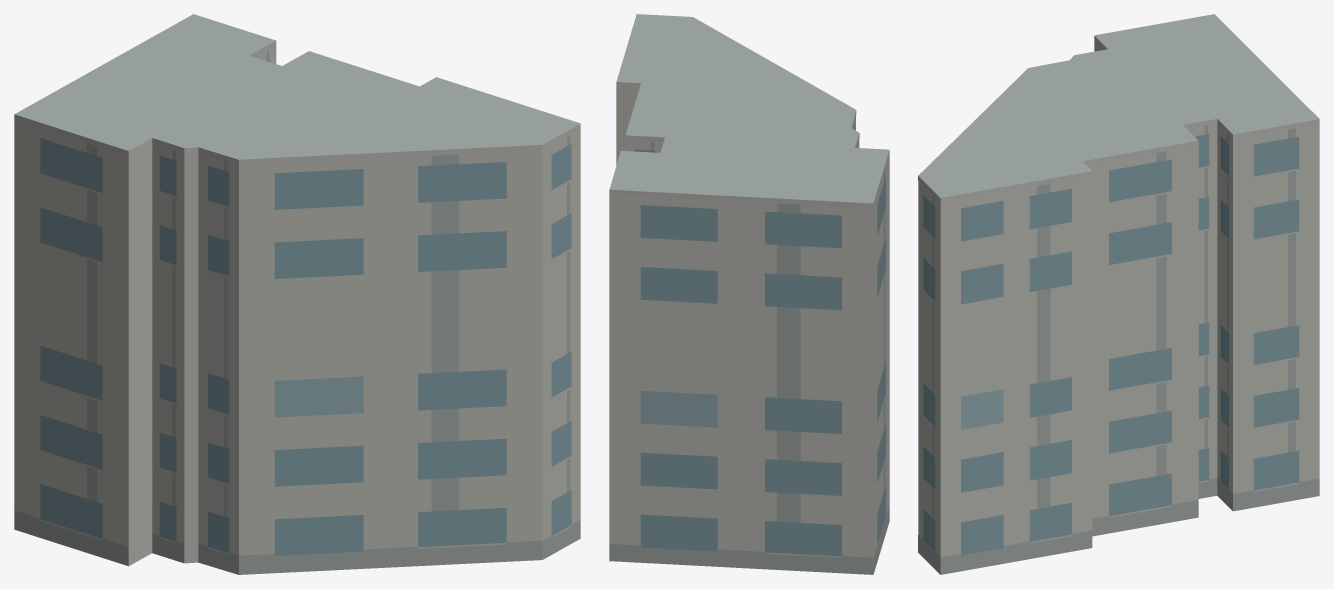
File: survey-upis-32772150.glb
3 renders of one model, left to right at view 1: azimuth 30°, elevation 25°; view 2: azimuth 150°, elevation 25°; view 3: azimuth 270°, elevation 25°, orthographic. The views are drawn at different scales.
Visible parts, largest first — view 1: survey-upis-32772150.tmp; view 2: survey-upis-32772150.tmp; view 3: survey-upis-32772150.tmp.
Part boxes in pixels (x1,y1,x2,y2): survey-upis-32772150.tmp: [14, 14, 580, 574]; survey-upis-32772150.tmp: [609, 14, 889, 574]; survey-upis-32772150.tmp: [918, 14, 1319, 574].
Size of the model in its own units: 19.18 by 18.3 by 17.68.
